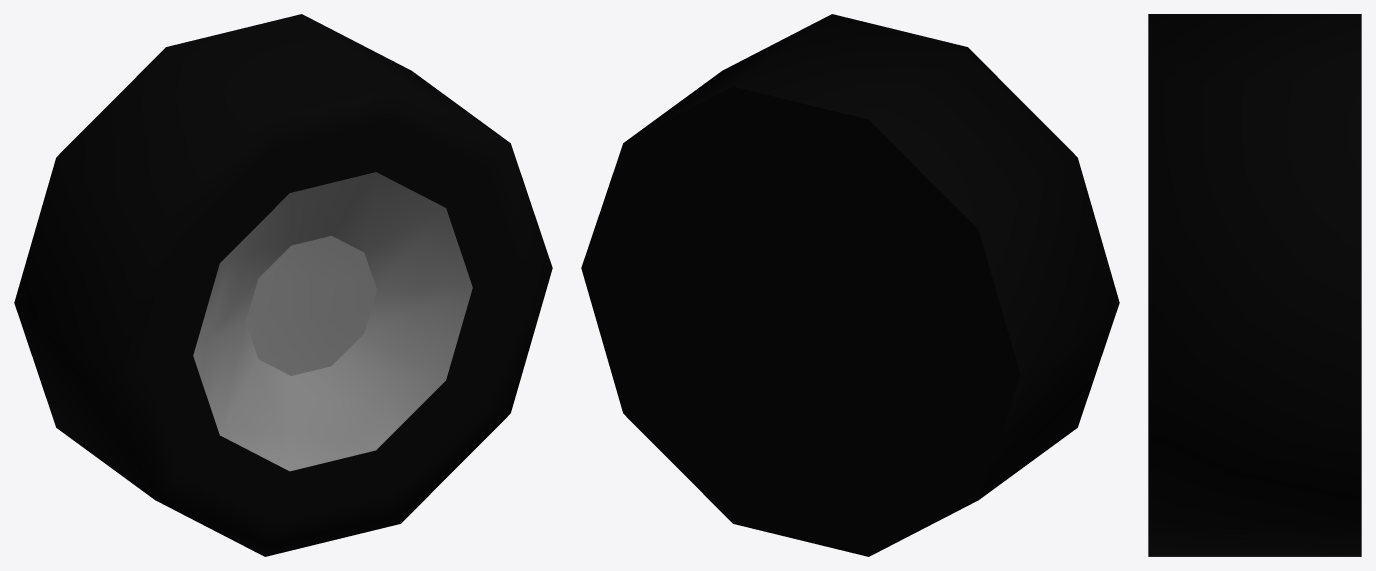
The model's file is Whell_1.fbx.
3 views of the same model, side by side, from view 1: azimuth 30°, elevation 25°; view 2: azimuth 150°, elevation 25°; view 3: azimuth 270°, elevation 25° (orthographic). The views are drawn at different scales.
Visible parts, largest first — view 1: Whell_1; view 2: Whell_1; view 3: Whell_1.
Boxes of the visible parts, x1=… form: Whell_1: x1=14, y1=14, x2=552, y2=556; Whell_1: x1=581, y1=14, x2=1119, y2=556; Whell_1: x1=1148, y1=14, x2=1361, y2=556.
Size of the model in its own units: 75.37 by 71.68 by 29.43.
1 material, 1 textured.
